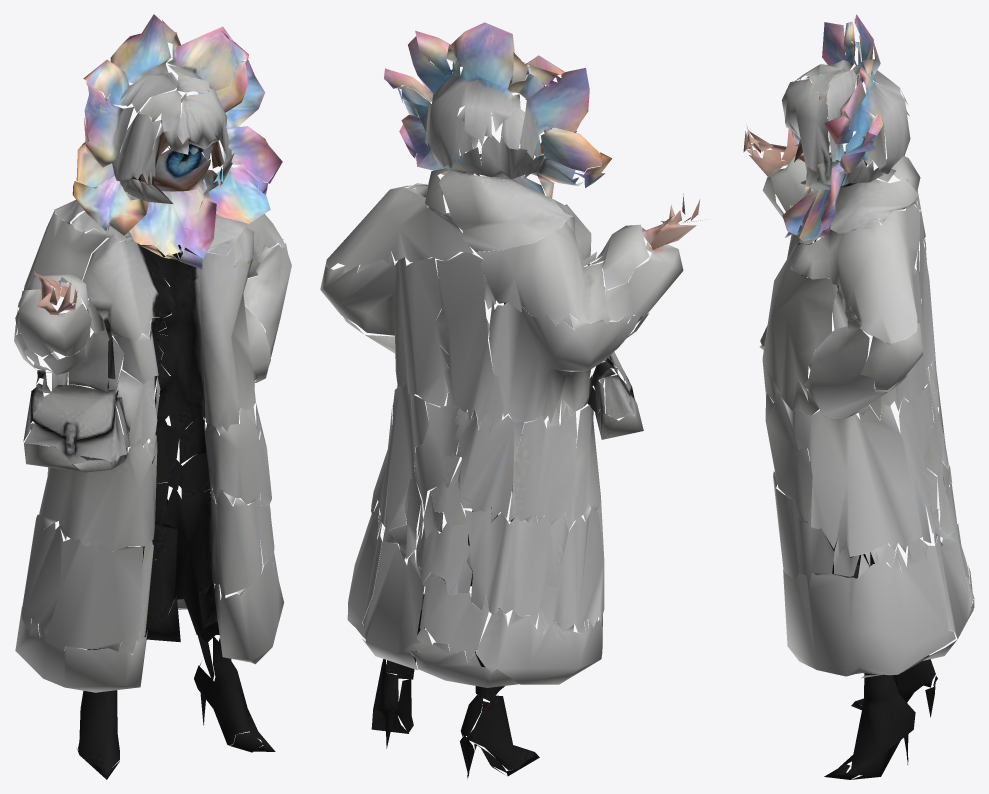
The model's file is crowd_editor.glb.
3 renders of one model, left to right at view 1: azimuth 30°, elevation 25°; view 2: azimuth 150°, elevation 25°; view 3: azimuth 270°, elevation 25°, orthographic. The views are drawn at different scales.
Visible parts, largest first — view 1: tripo_node_bf9fb8a6-23f6-4862-ac37-375ab1056567; view 2: tripo_node_bf9fb8a6-23f6-4862-ac37-375ab1056567; view 3: tripo_node_bf9fb8a6-23f6-4862-ac37-375ab1056567.
Boxes of the visible parts, box(x1,y1,x2,y2) form: tripo_node_bf9fb8a6-23f6-4862-ac37-375ab1056567: box(14, 14, 291, 779); tripo_node_bf9fb8a6-23f6-4862-ac37-375ab1056567: box(320, 22, 702, 778); tripo_node_bf9fb8a6-23f6-4862-ac37-375ab1056567: box(743, 14, 974, 779).
Size of the model in its own units: 0.8458 by 1.89 by 0.5502.
Materials: 1 (1 with a texture image).
